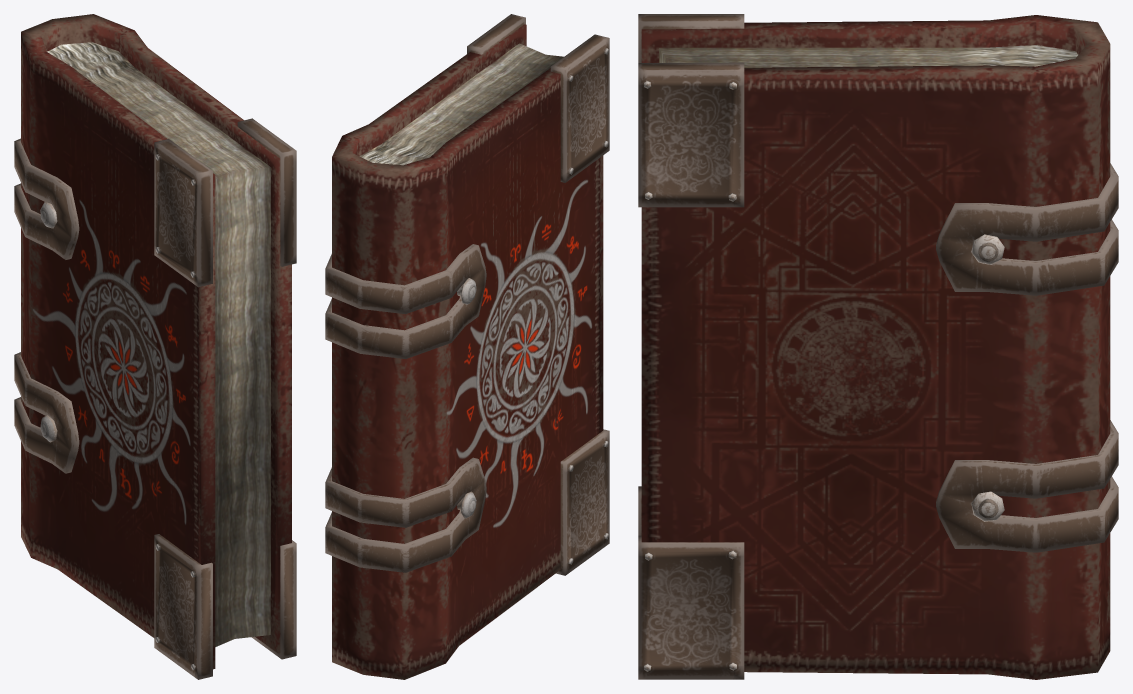
The model's file is magicbook.glb.
The picture shows the model from 3 angles, left to right: view 1: azimuth 30°, elevation 25°; view 2: azimuth 150°, elevation 25°; view 3: azimuth 270°, elevation 25°; orthographic projection. The views are drawn at different scales.
Parts seen in each view (by area): view 1: magicbook_composite; view 2: magicbook_composite; view 3: magicbook_composite.
Boxes of the visible parts, x1,y1,x2,y2 form: magicbook_composite: (14, 14, 296, 679); magicbook_composite: (325, 14, 609, 679); magicbook_composite: (638, 14, 1118, 679).
Bounding box in the file's own units: 5.28 × 21.74 × 15.57.
Materials: 1 (1 with a texture image).
